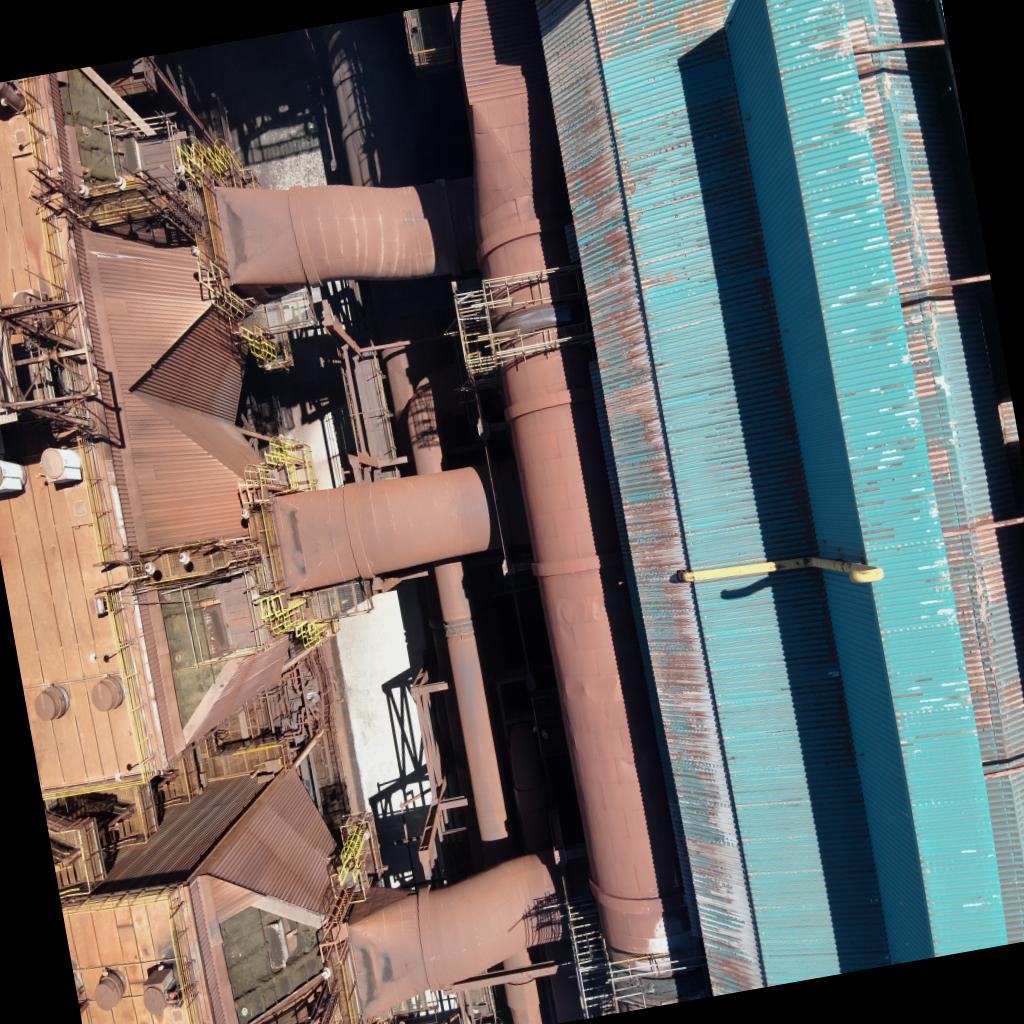Failures: (207, 889, 351, 1024), (153, 578, 252, 746), (60, 61, 154, 204)
